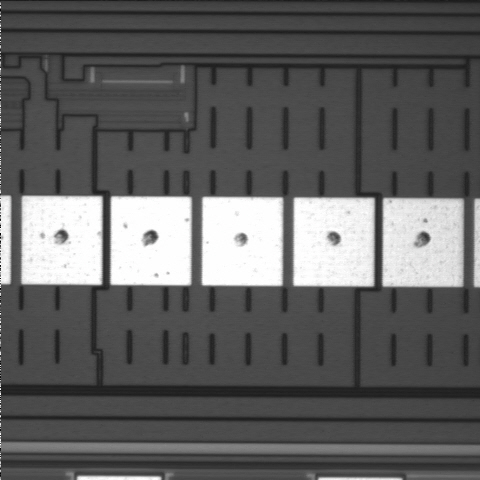pad: (110, 196, 192, 285), (202, 197, 283, 286), (293, 198, 374, 286), (22, 196, 102, 285), (383, 198, 463, 287)
